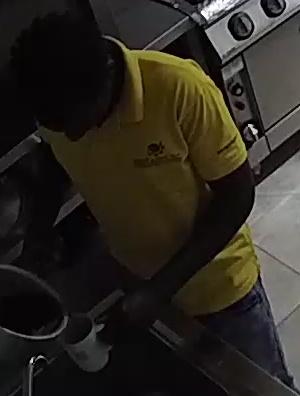no_apron: (23, 38, 252, 317)
